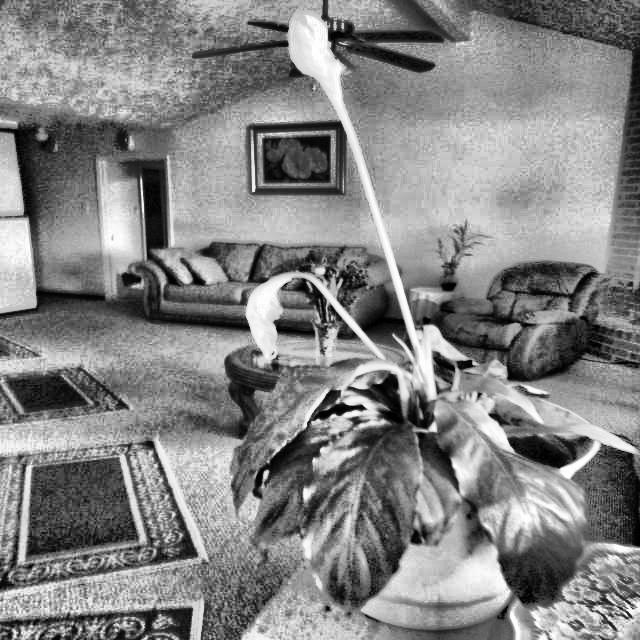plants: (200, 18, 614, 620), (228, 268, 396, 381)
